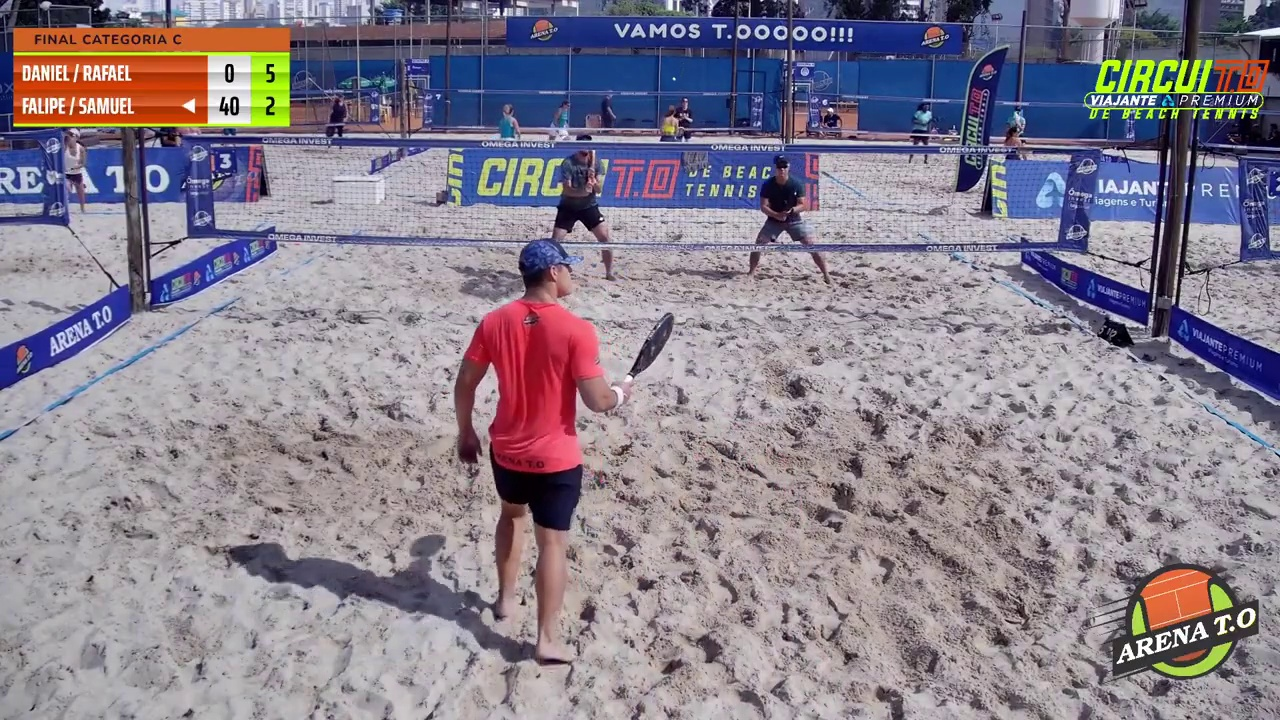court_line: (610, 0, 810, 546), (542, 0, 660, 520)
